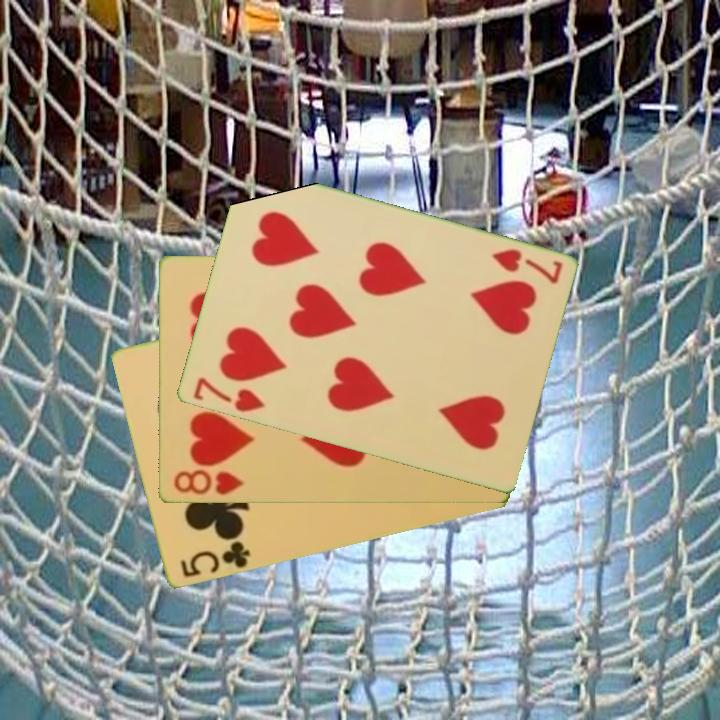5c: (176, 535, 253, 581)
7h: (189, 374, 267, 416), (488, 245, 565, 287)
8h: (170, 466, 246, 498)
